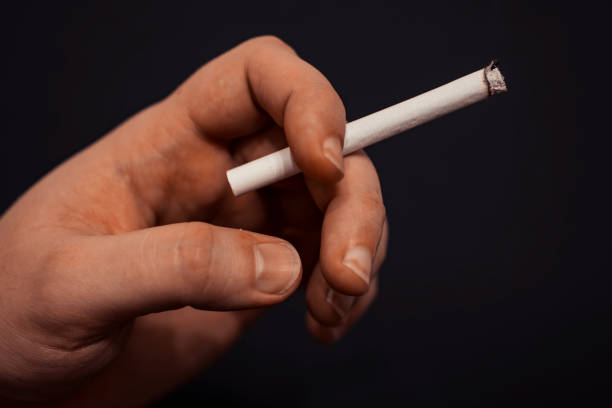cigarette: (223, 66, 505, 194)
